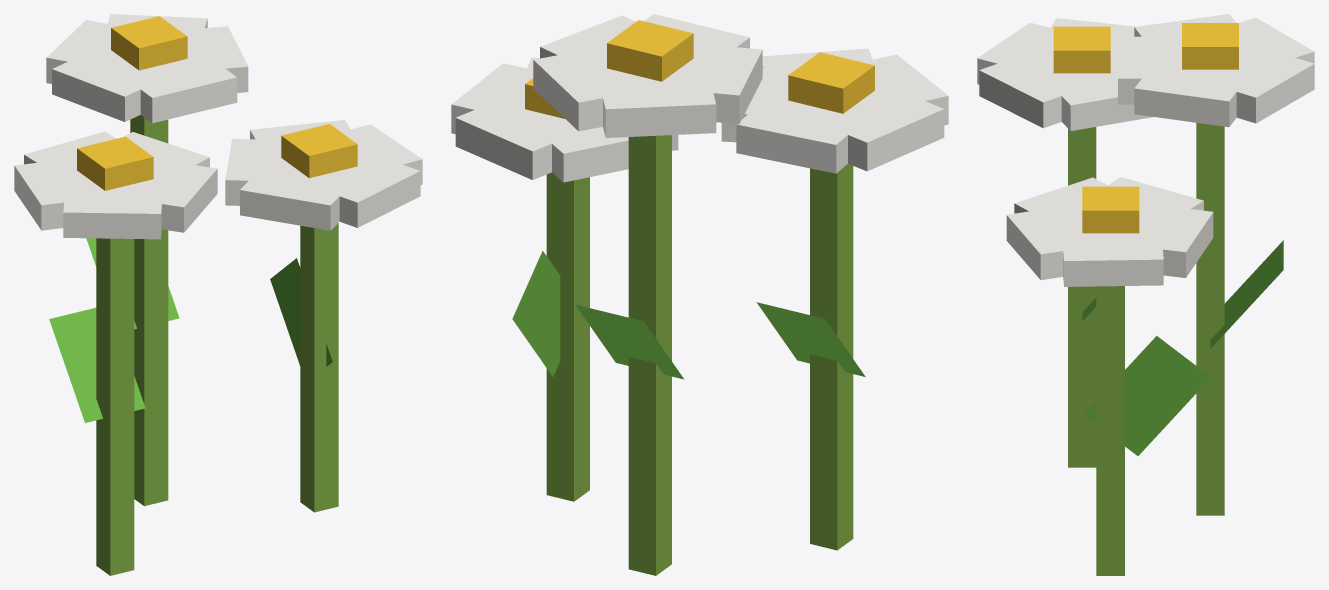
File: flower_white.obj
The picture shows the model from 3 angles, left to right: view 1: azimuth 30°, elevation 25°; view 2: azimuth 150°, elevation 25°; view 3: azimuth 270°, elevation 25°; orthographic projection. The views are drawn at different scales.
Visible parts, largest first — view 1: bloom, stem; view 2: stem, bloom; view 3: bloom, stem.
Boxes of the visible parts, x1=… form: bloom: x1=14, y1=14, x2=422, y2=239; stem: x1=49, y1=115, x2=338, y2=575; stem: x1=512, y1=135, x2=865, y2=575; bloom: x1=451, y1=14, x2=948, y2=182; bloom: x1=977, y1=14, x2=1314, y2=286; stem: x1=1068, y1=122, x2=1283, y2=575.
Bounding box in the file's own units: 0.3177 × 0.3675 × 0.2369.
